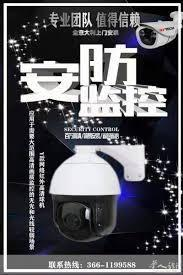maru: (33, 142, 124, 249)
